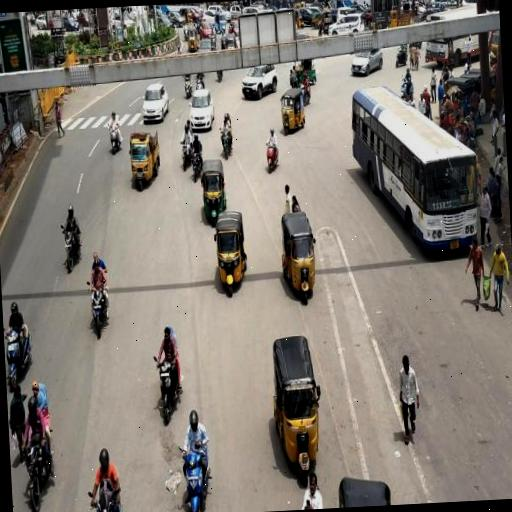helmet: (52, 195, 90, 293), (90, 436, 136, 500), (220, 110, 238, 158)
no helmet: (148, 316, 206, 423), (80, 245, 126, 342)
